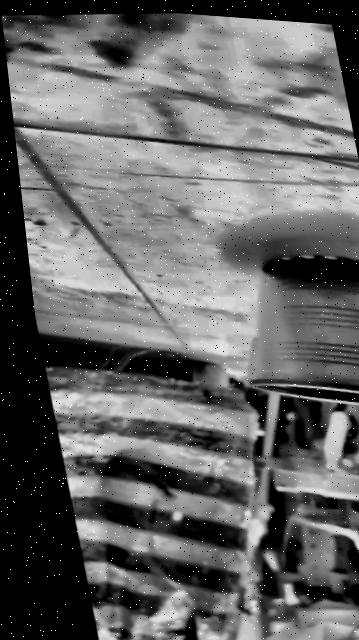pot: (218, 243, 359, 422)
